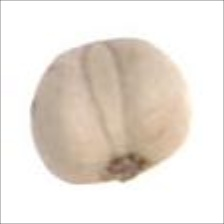L5: (80, 39, 138, 155), (100, 149, 155, 184)
L6: (27, 38, 196, 187)
